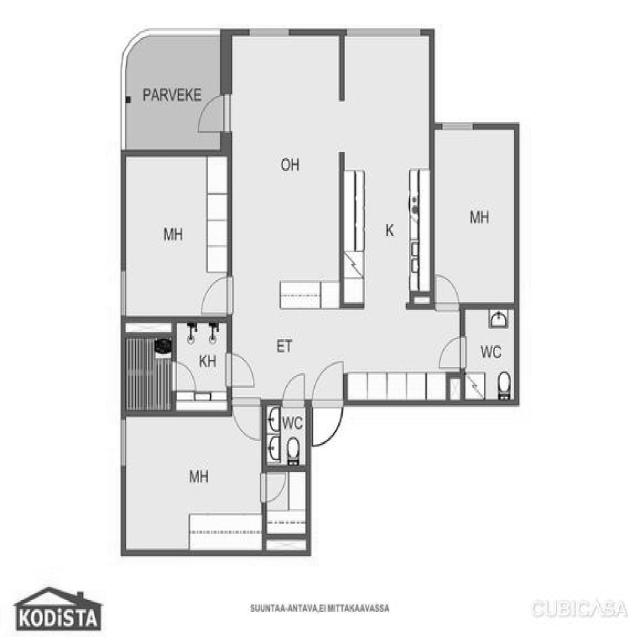door: (121, 151, 231, 319), (462, 303, 516, 405), (310, 356, 345, 448), (228, 353, 261, 435), (196, 273, 237, 317), (224, 351, 257, 390), (232, 400, 262, 442), (435, 334, 466, 372), (432, 270, 460, 312), (259, 470, 289, 505), (281, 373, 307, 409), (172, 359, 196, 395)
window: (343, 24, 424, 42), (244, 24, 292, 42), (117, 416, 129, 474), (115, 267, 129, 316), (438, 119, 479, 133)
zone: (227, 23, 346, 364), (341, 37, 431, 309), (122, 411, 267, 553), (120, 150, 232, 318), (432, 124, 518, 308), (464, 304, 516, 406), (176, 318, 230, 413), (124, 323, 173, 413), (264, 469, 306, 543), (263, 401, 309, 468), (189, 91, 233, 138)
